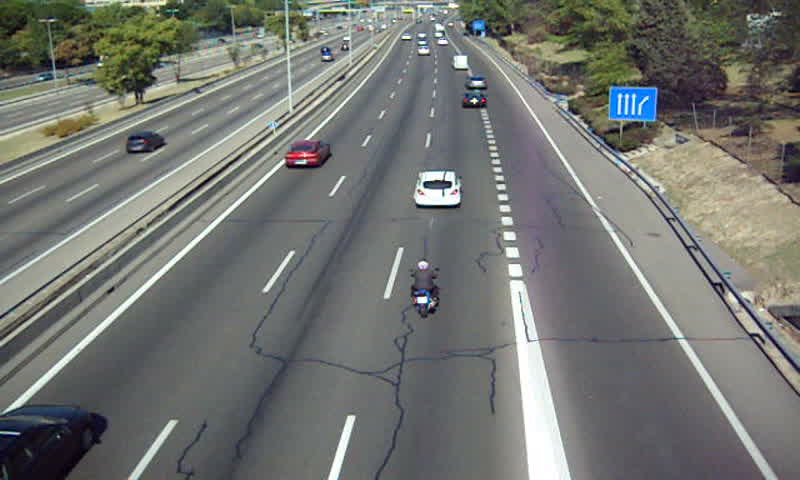car: (415, 170, 463, 209), (283, 141, 329, 168), (461, 92, 488, 108), (466, 75, 488, 91)
motorcycle: (408, 258, 441, 316)
van: (452, 54, 469, 70)
